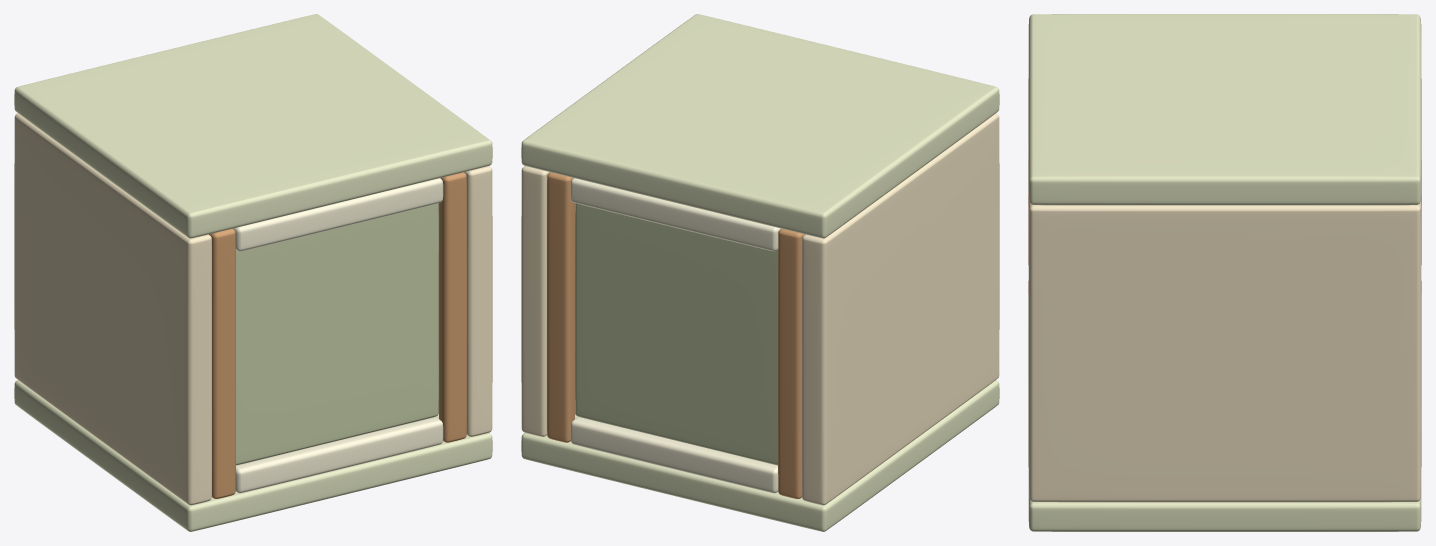
File: Caja_high.fbx
The picture shows the model from 3 angles, left to right: view 1: azimuth 30°, elevation 25°; view 2: azimuth 150°, elevation 25°; view 3: azimuth 270°, elevation 25°; orthographic projection. The views are drawn at different scales.
Parts seen in each view (by area): view 1: SM_EndsExterior_high, SM_SidesExterior_high, SM_Center_high, SM_SidesInterior_high, SM_EndsInterior_high; view 2: SM_EndsExterior_high, SM_SidesExterior_high, SM_Center_high, SM_SidesInterior_high, SM_EndsInterior_high; view 3: SM_SidesExterior_high, SM_EndsExterior_high.
Part boxes in pixels (x1,y1,x2,y2): SM_EndsExterior_high: [14, 14, 492, 531]; SM_SidesExterior_high: [14, 113, 492, 505]; SM_Center_high: [236, 203, 438, 465]; SM_SidesInterior_high: [209, 172, 466, 498]; SM_EndsInterior_high: [233, 178, 443, 493]; SM_EndsExterior_high: [521, 14, 999, 531]; SM_SidesExterior_high: [521, 113, 999, 505]; SM_Center_high: [575, 203, 777, 465]; SM_SidesInterior_high: [547, 172, 804, 498]; SM_EndsInterior_high: [570, 178, 780, 493]; SM_SidesExterior_high: [1028, 201, 1421, 502]; SM_EndsExterior_high: [1028, 14, 1421, 531].
Size of the model in its own units: 89.96 by 89.96 by 89.96.
